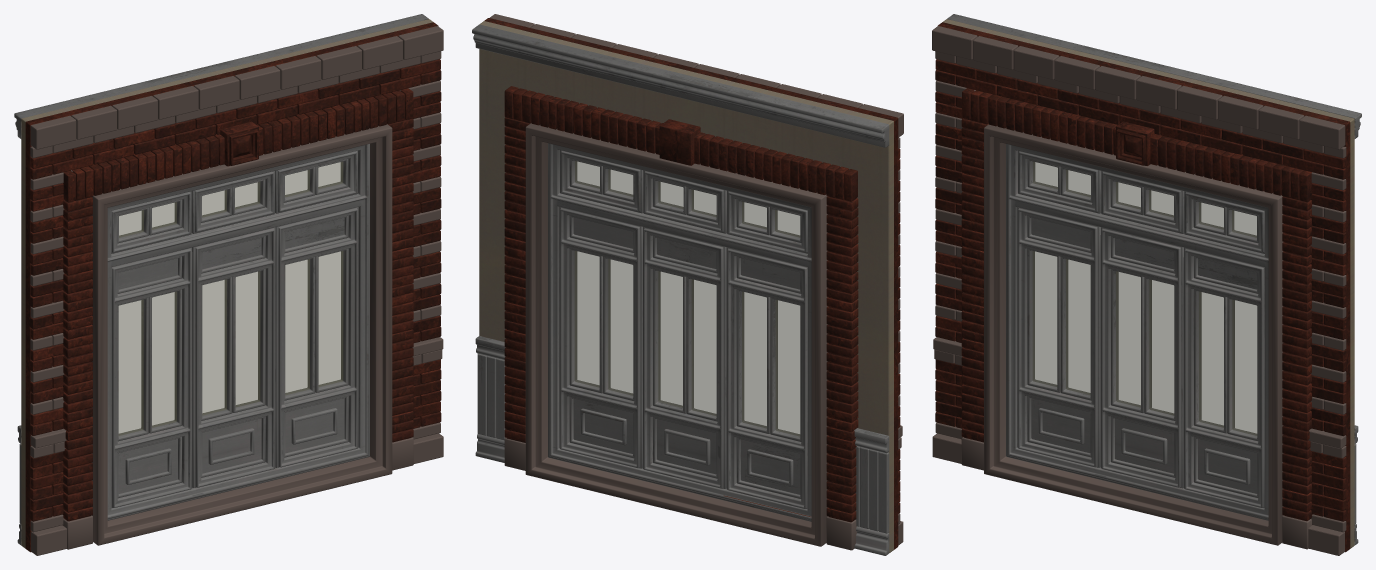
File: SK4 WINDOW 3.fbx
The picture shows the model from 3 angles, left to right: view 1: azimuth 30°, elevation 25°; view 2: azimuth 150°, elevation 25°; view 3: azimuth 330°, elevation 25°; orthographic projection.
Visible parts, largest first — view 1: SK4 WINDOW 3.002; view 2: SK4 WINDOW 3.002; view 3: SK4 WINDOW 3.002.
Part boxes in pixels (x1=…): SK4 WINDOW 3.002: x1=14, y1=14, x2=443, y2=555; SK4 WINDOW 3.002: x1=472, y1=14, x2=903, y2=555; SK4 WINDOW 3.002: x1=932, y1=14, x2=1361, y2=555.
Bounding box in the file's own units: 400 × 400 × 52.82.
